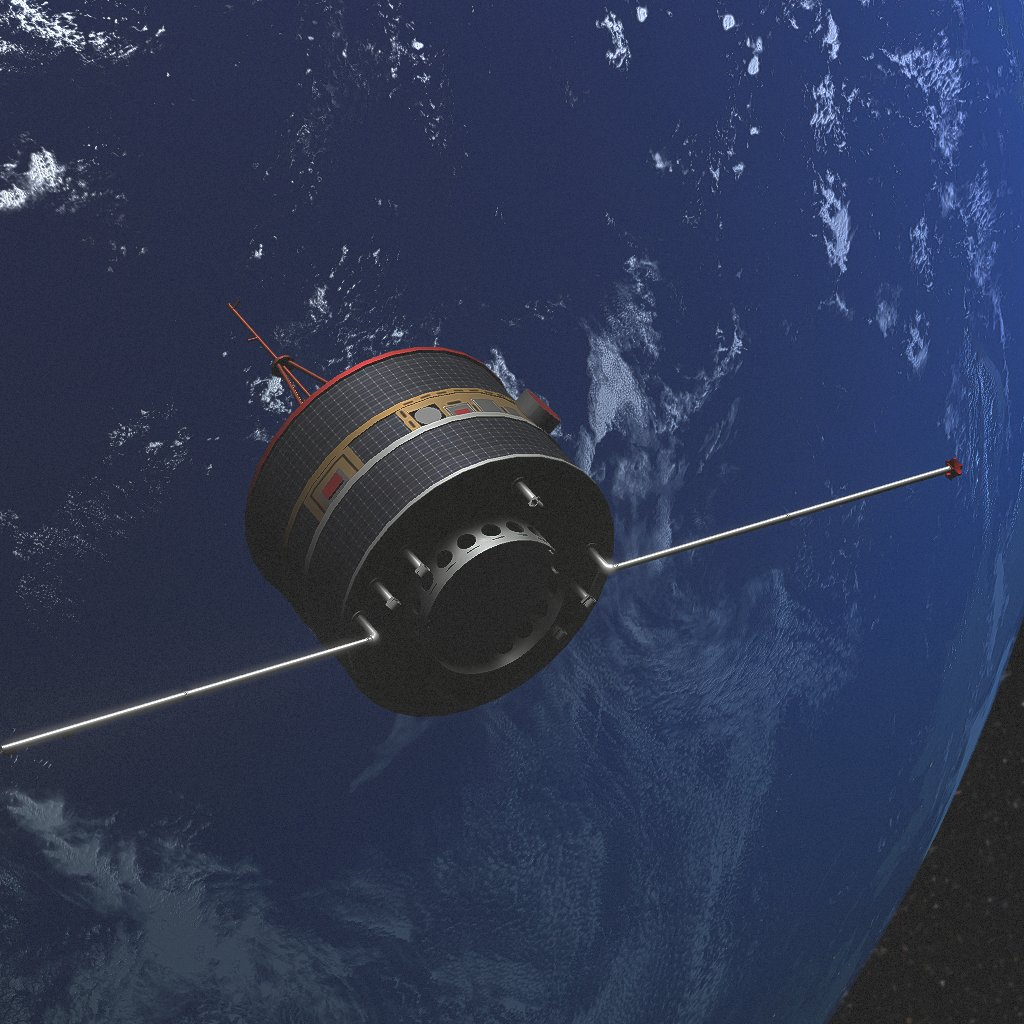double_star: (0, 300, 962, 756)
